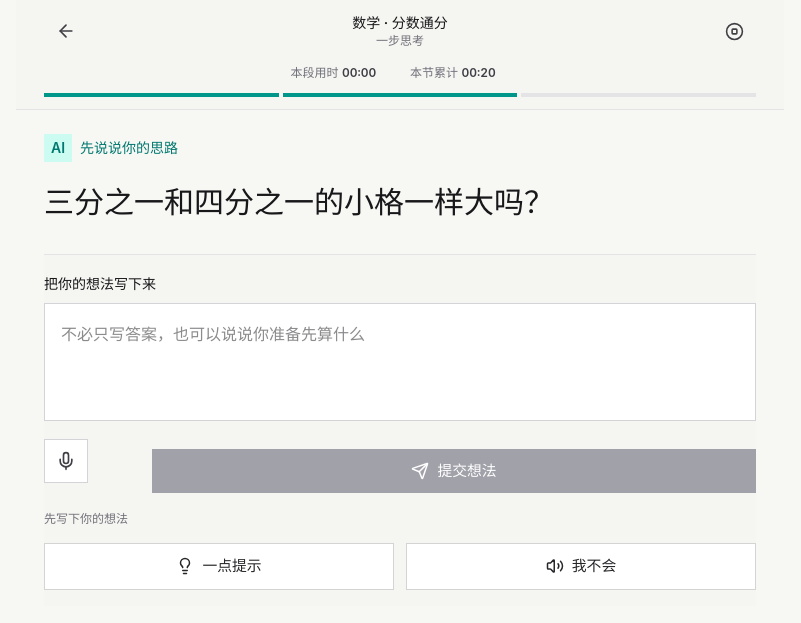
Test: keeps controls and typed text available when an EXPLAIN must be rephrased
Type "我还在整理自己的想法" into the text box with id "student-answer" at coordinates (400, 362), box [44,303,756,421]
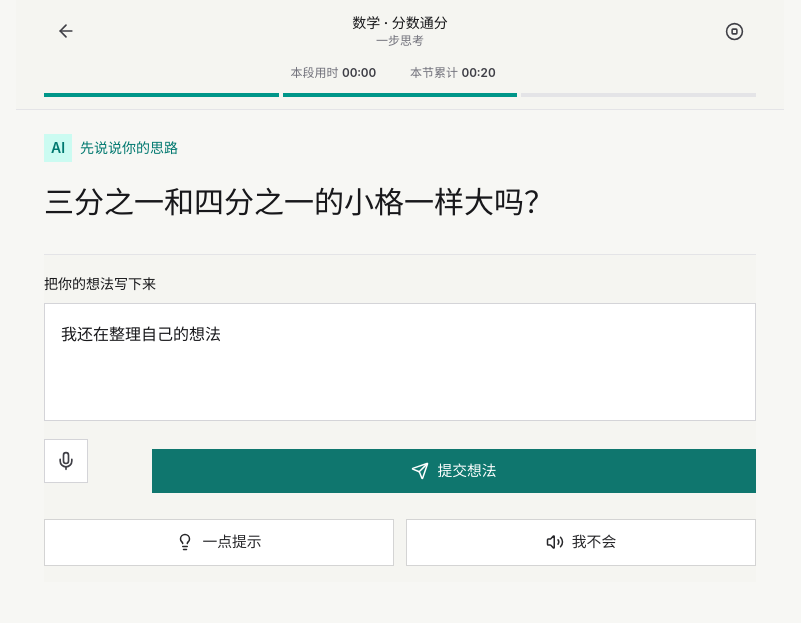
Click the button "我不会" at coordinates (581, 542), box [406,519,756,566]
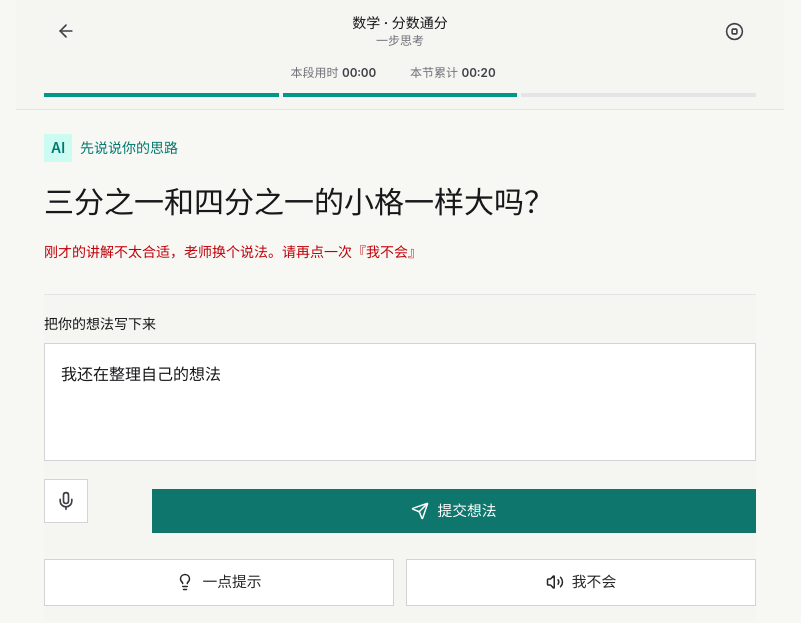
Expected: the element with test id "answer-controls" is enabled, [44,311,756,606]
Now the submit button is enabled, box [152,489,756,533]
Now the message "刚才的讲解不太合适，老师换个说法。请再点一次『我不会』" is shown, box [44,243,422,260]
